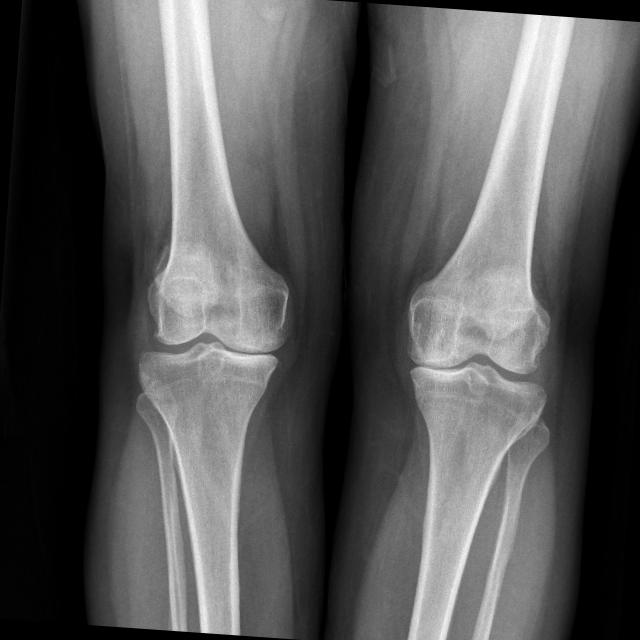Knee: (135, 270, 294, 412), (400, 296, 554, 440)
